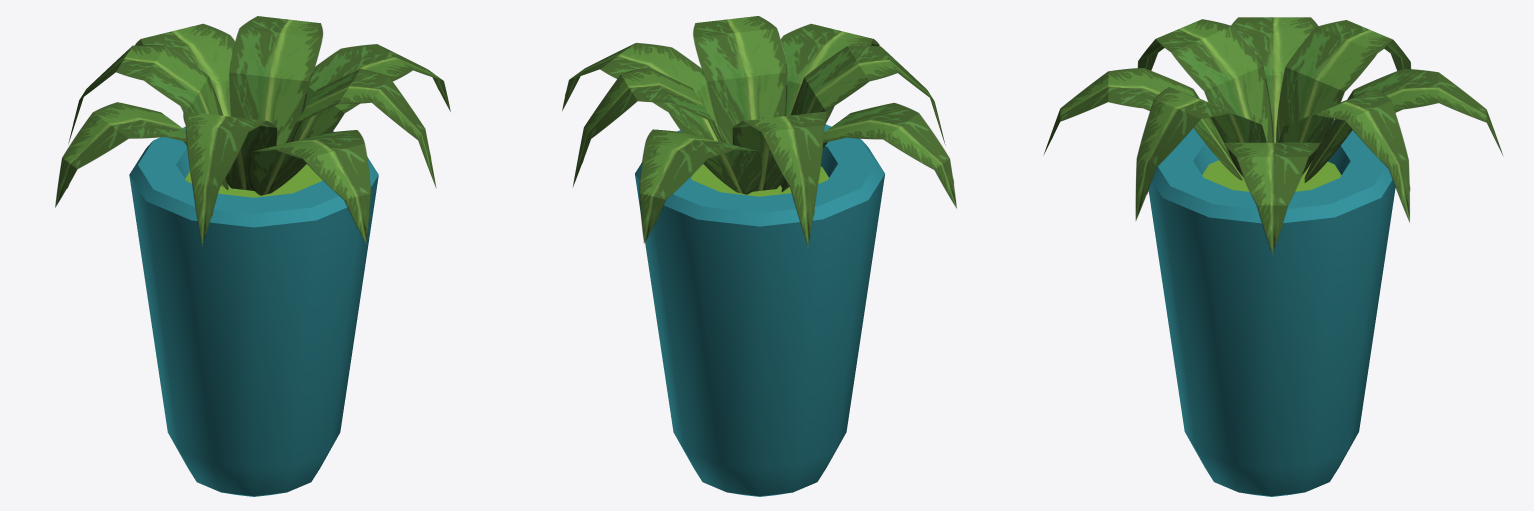
File: plant_1.glb
The picture shows the model from 3 angles, left to right: view 1: azimuth 30°, elevation 25°; view 2: azimuth 150°, elevation 25°; view 3: azimuth 270°, elevation 25°; orthographic projection.
Visible parts, largest first — view 1: Plant 3; view 2: Plant 3; view 3: Plant 3.
Part boxes in pixels (<box>): Plant 3: <box>55,16,450,496</box>; Plant 3: <box>562,16,956,496</box>; Plant 3: <box>1043,17,1503,496</box>.
Bounding box in the file's own units: 0.6855 × 0.6332 × 0.6855.
Materials: 2 (2 with a texture image).
